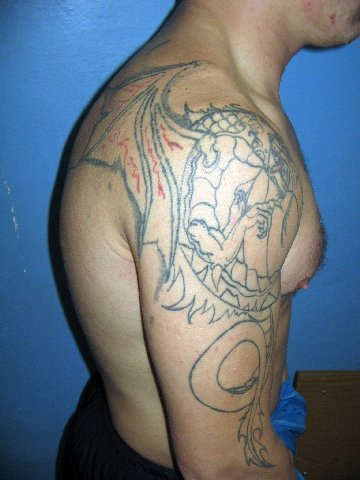tatu6_drakon: (69, 62, 320, 473)
